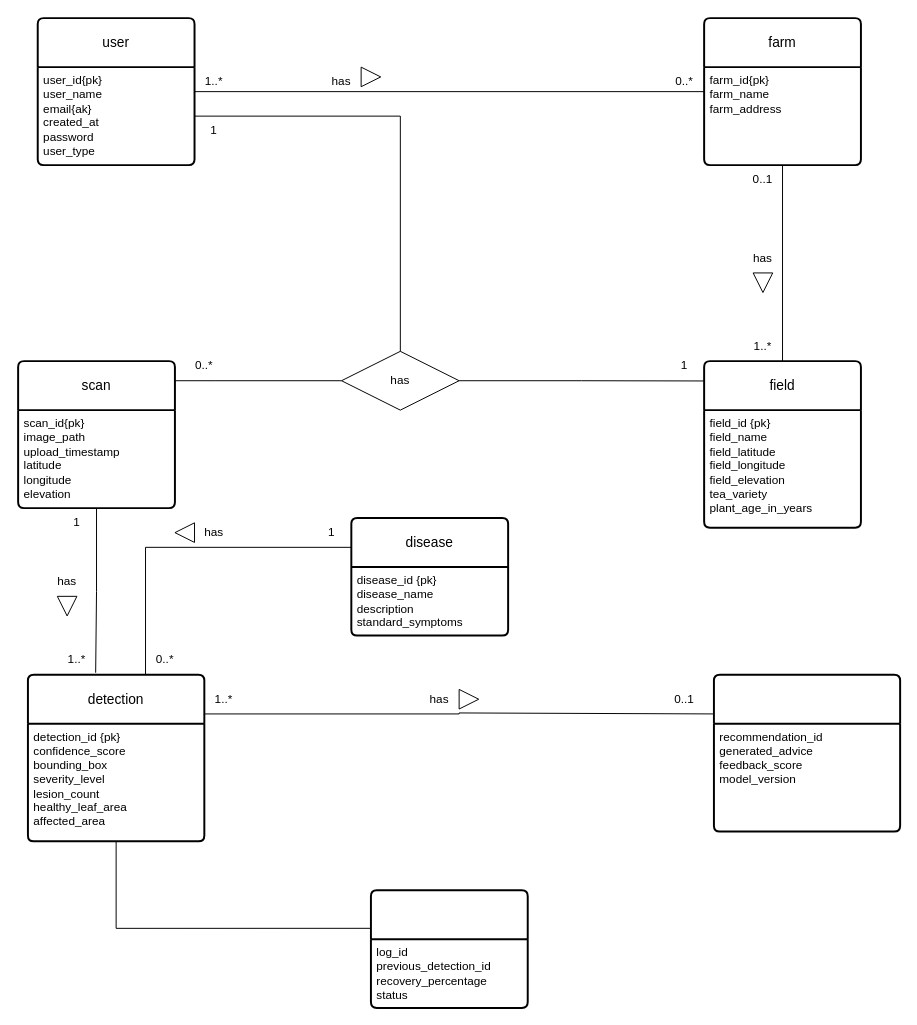
This 917x1025 diagram has some shape labels left out. Each missing label, with the box of its shape:
recovery_logs: (369, 889, 528, 1008)
Treatment_recommendation: (712, 673, 901, 832)
